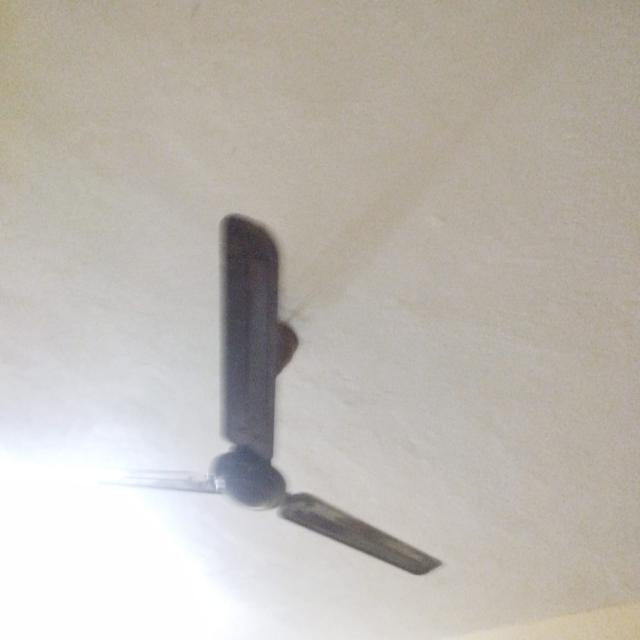fan_off: (61, 210, 442, 565)
